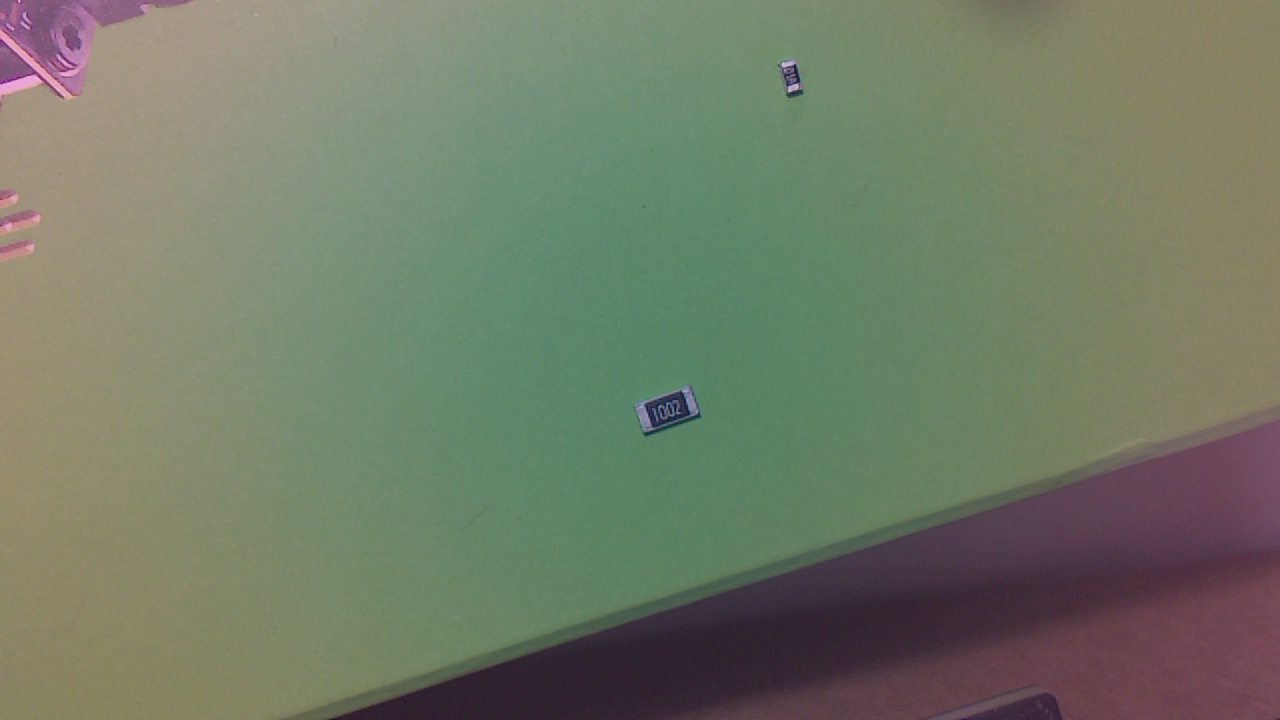Resistor: (638, 392, 705, 444), (782, 63, 811, 103)
